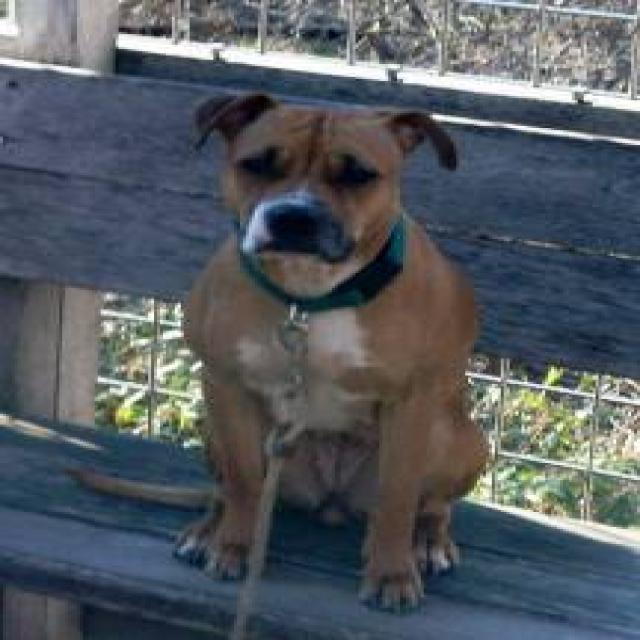dog-american_pit_bull_terrier: (74, 85, 510, 621)
